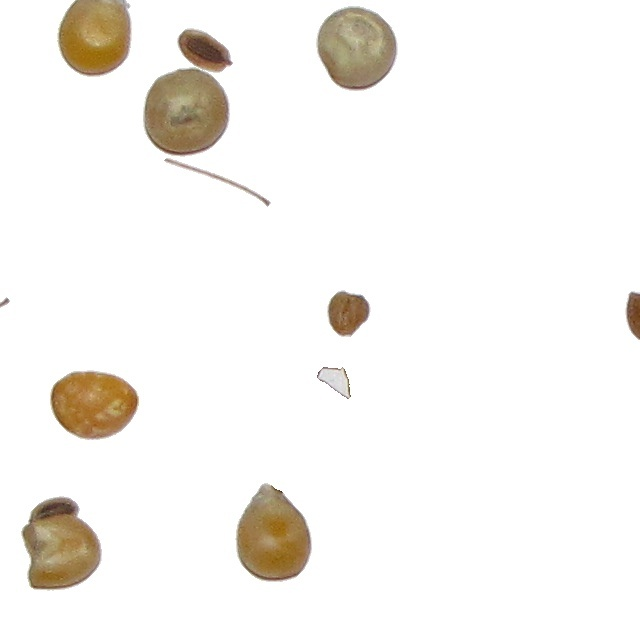buckwheat: (326, 289, 372, 338), (624, 290, 640, 345)
dill: (163, 157, 272, 208)
mais: (142, 66, 231, 158), (234, 482, 313, 583), (315, 5, 399, 92), (49, 369, 140, 441), (20, 510, 92, 592), (176, 27, 234, 74)
other: (316, 366, 352, 400)
